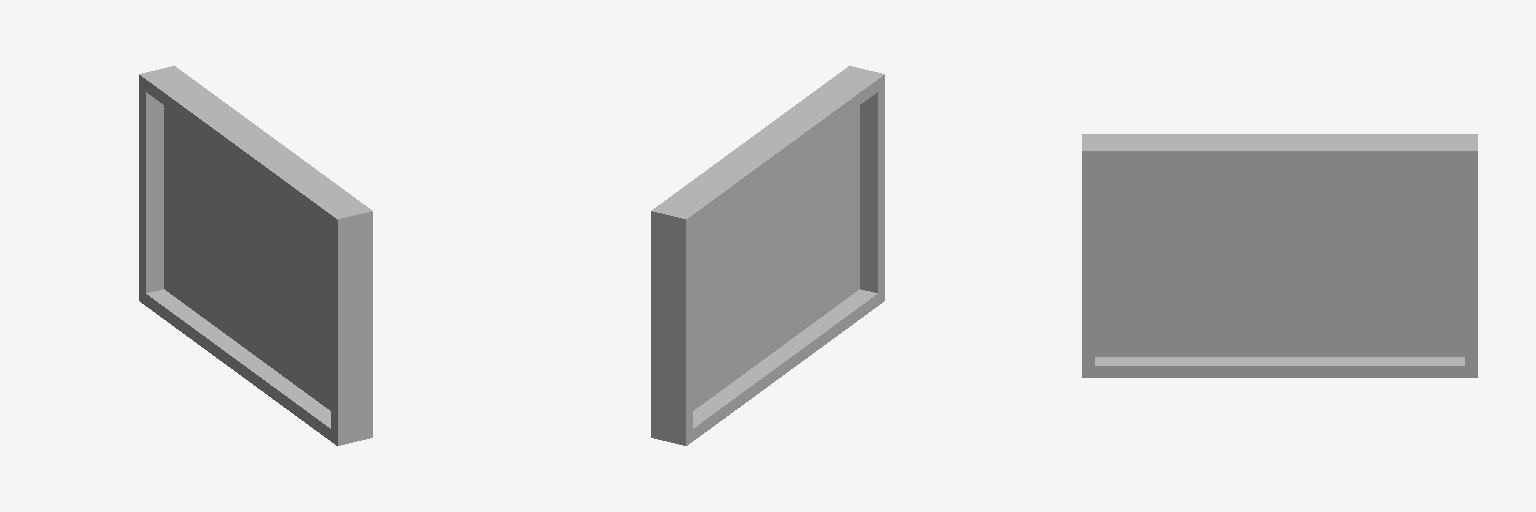
Rendered from pictureFrameLarge.obj.
3 views of the same model, side by side, from view 1: azimuth 30°, elevation 25°; view 2: azimuth 150°, elevation 25°; view 3: azimuth 270°, elevation 25° (orthographic).
Parts seen in each view (by area): view 1: Cube_Cube.001; view 2: Cube_Cube.001; view 3: Cube_Cube.001.
Part boxes in pixels (x1,y1,x2,y2): Cube_Cube.001: (139,66,372,445); Cube_Cube.001: (651,66,884,445); Cube_Cube.001: (1082,134,1477,377).
Size of the model in its own units: 0.3275 by 2 by 3.17.